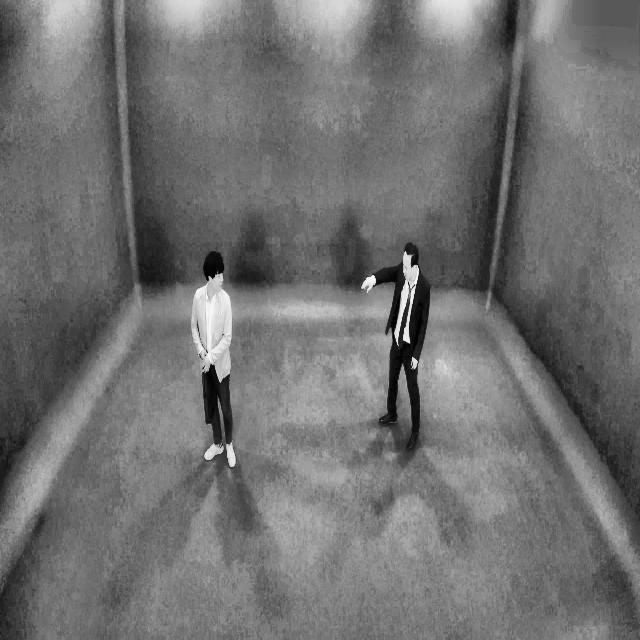assult: (183, 240, 437, 461)
